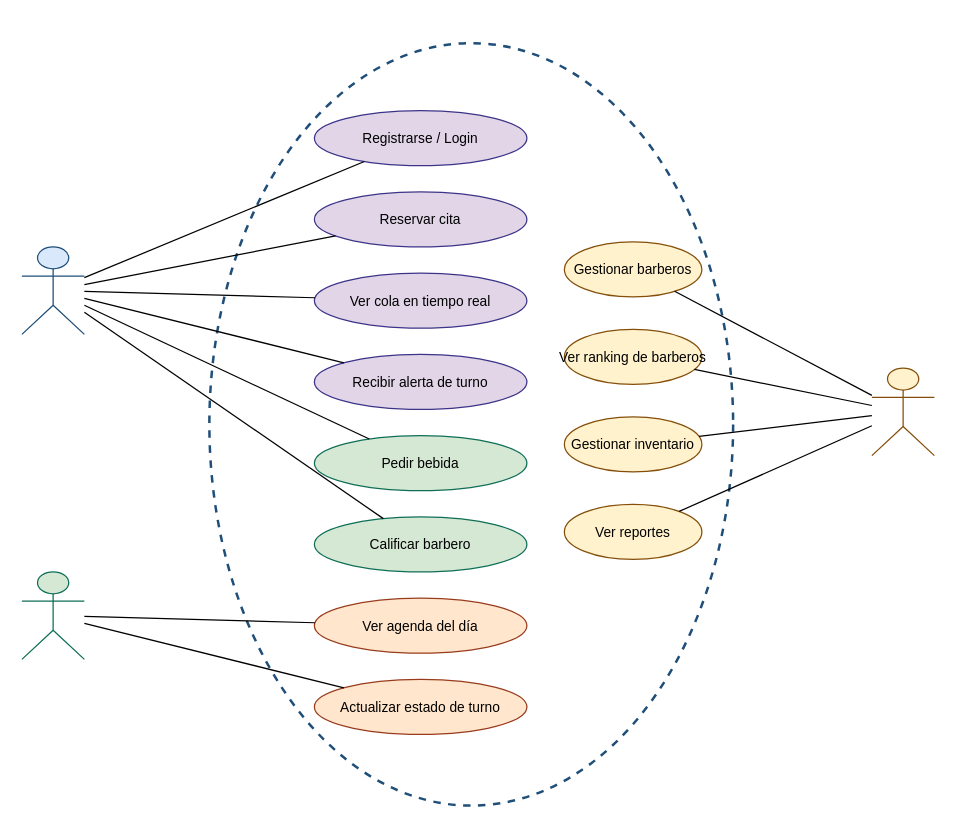
Image size: 956x828. Some labels were removed from this diagram. Here are the shapes that lost their labels. From the top down, the box of each, then its label:
(21, 246, 84, 334): Cliente
(208, 41, 734, 806): Sistema Bar4Beards
(871, 367, 934, 456): Admin
(21, 571, 84, 659): Barbero
